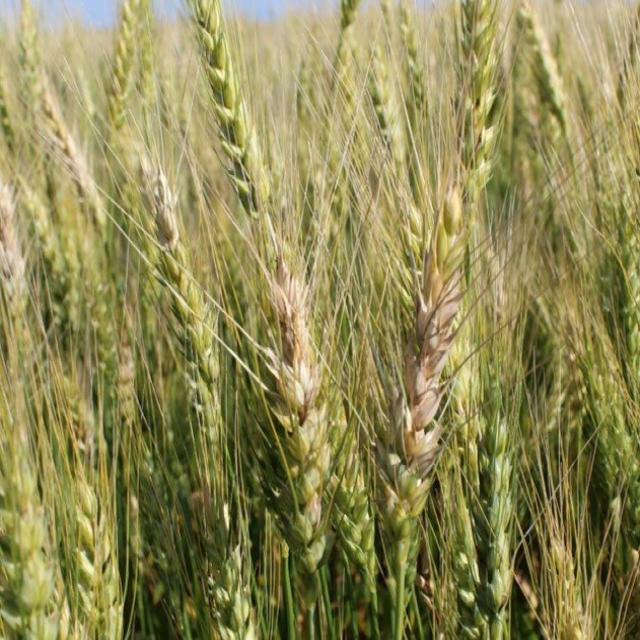Wheathead: (340, 0, 606, 196), (176, 0, 295, 244), (250, 298, 332, 545), (384, 256, 448, 541)
